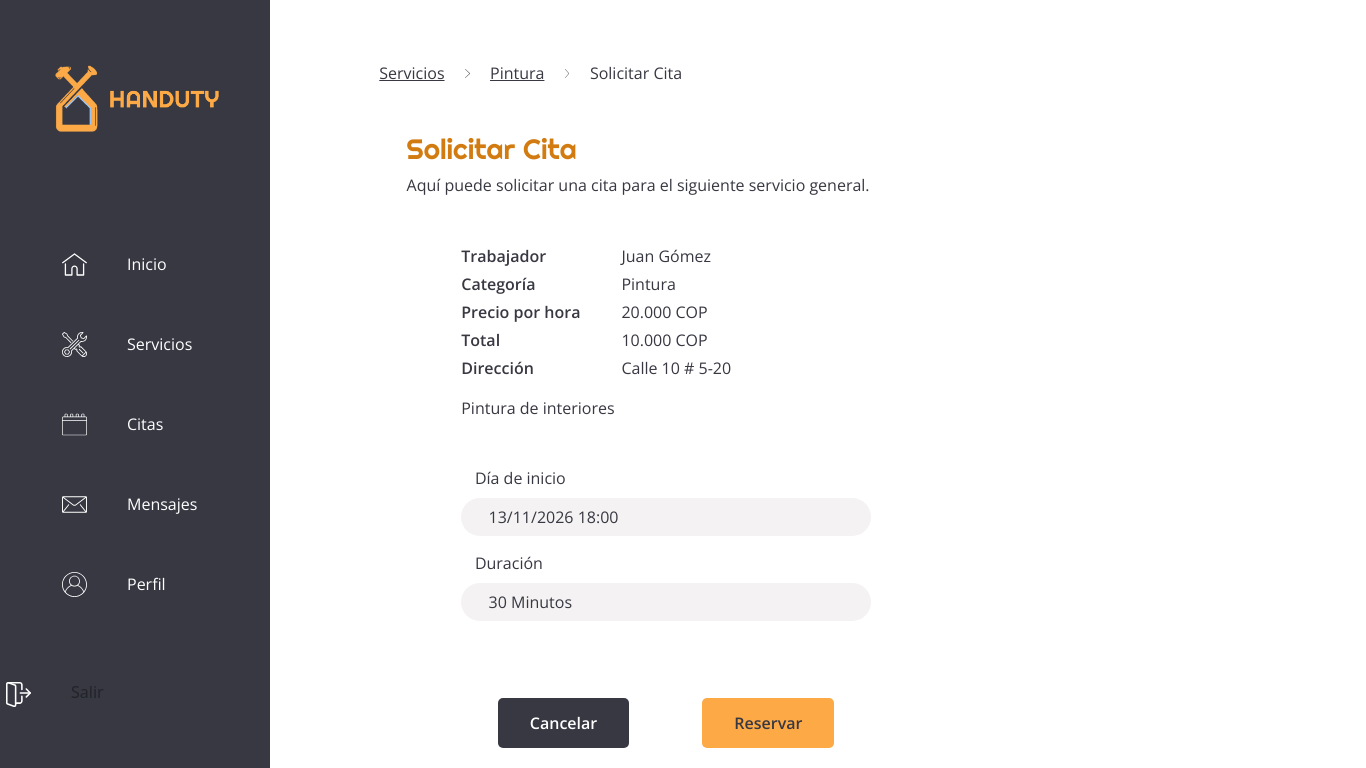
Book › books the selected slot and confirms
Expected: the text "Juan Gómez" is shown, [621,245,711,267]
Select "60 Minutos" in the dropdown labelled "Duración" at x=666, y=602, box [461,583,871,621]
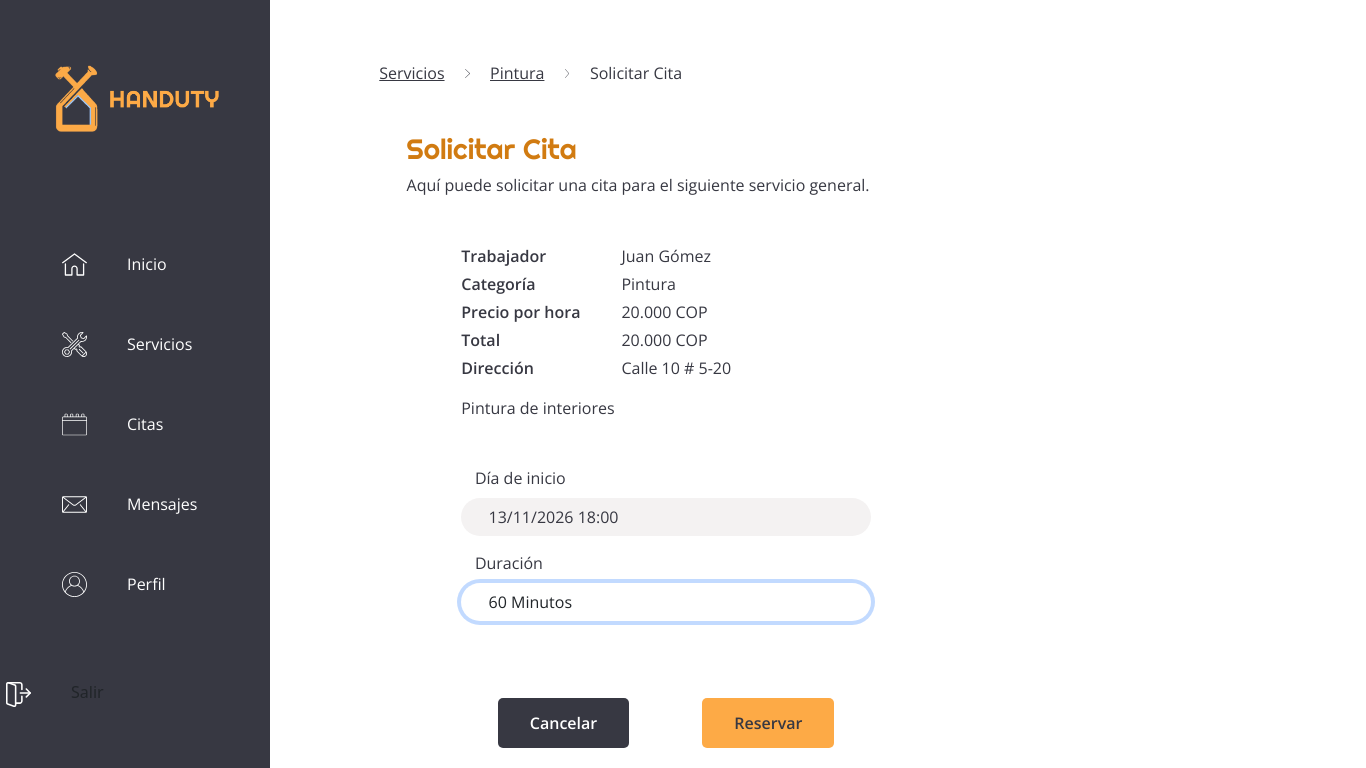
Click the button "Reservar" at x=768, y=723, box [702,698,834,748]
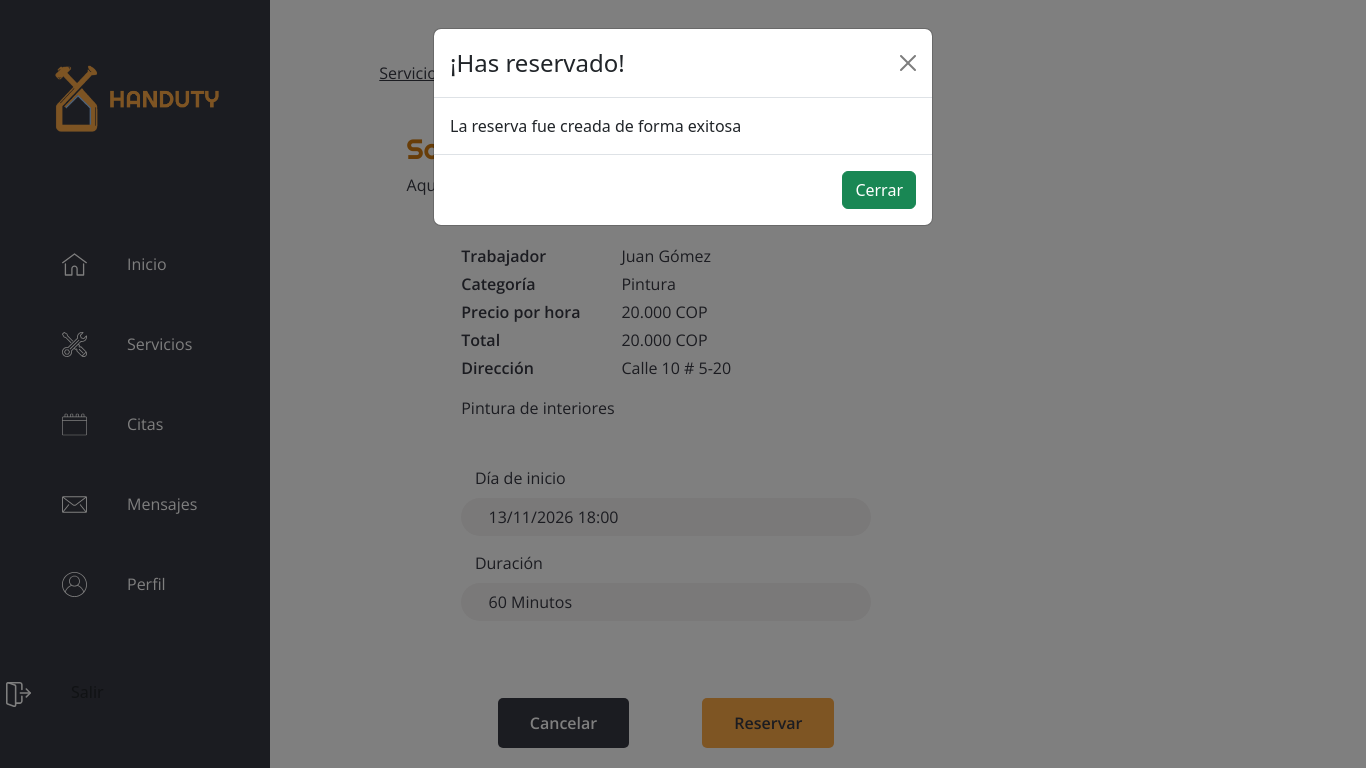
Expected: the text "La reserva fue creada de forma exitosa" is shown, [450,115,741,137]
